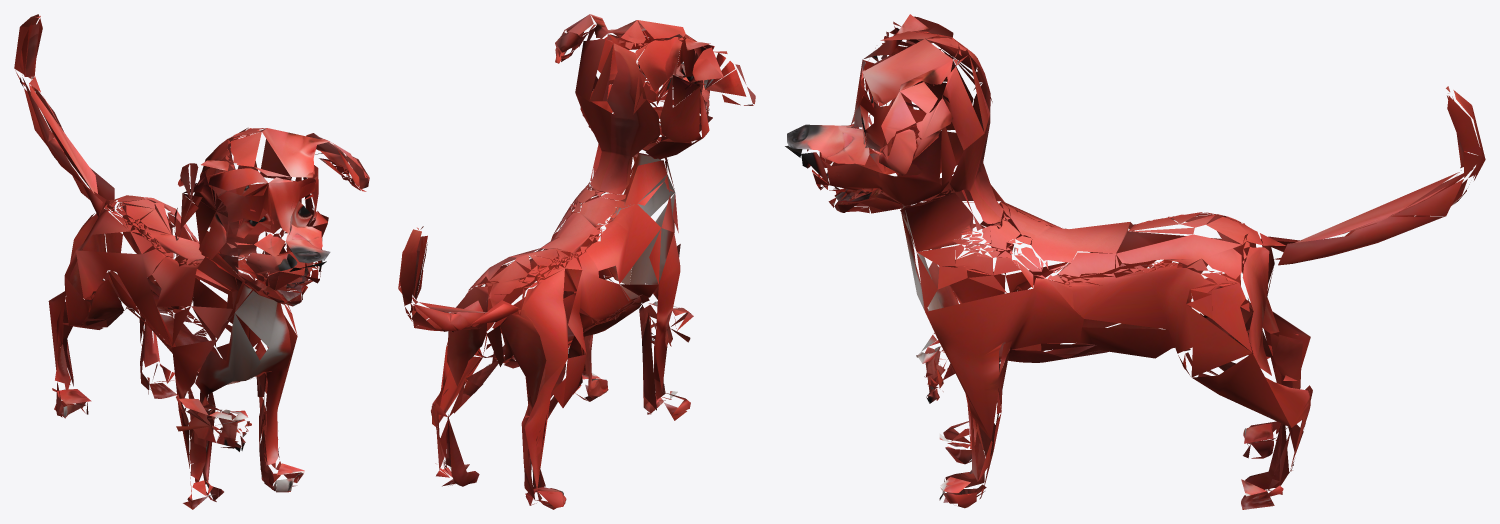
Rendered from doggo.glb.
3 views of the same model, side by side, from view 1: azimuth 30°, elevation 25°; view 2: azimuth 150°, elevation 25°; view 3: azimuth 270°, elevation 25° (orthographic). The views are drawn at different scales.
Visible parts, largest first — view 1: Mesh_0.004; view 2: Mesh_0.004; view 3: Mesh_0.004.
Boxes of the visible parts, x1,y1,x2,y2 form: Mesh_0.004: (14,14,369,509); Mesh_0.004: (398,14,755,509); Mesh_0.004: (785,14,1485,509).
Size of the model in its own units: 0.7555 by 1.4 by 2.
Materials: 1 (1 with a texture image).
